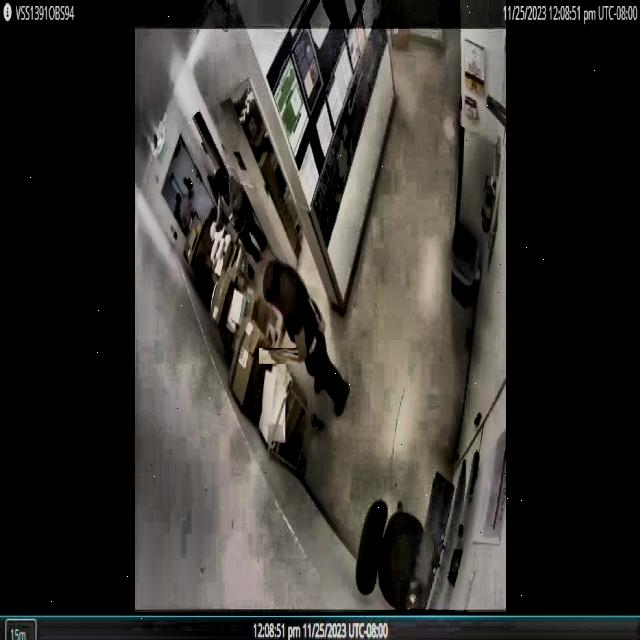not-gloved: (264, 342, 292, 370)
